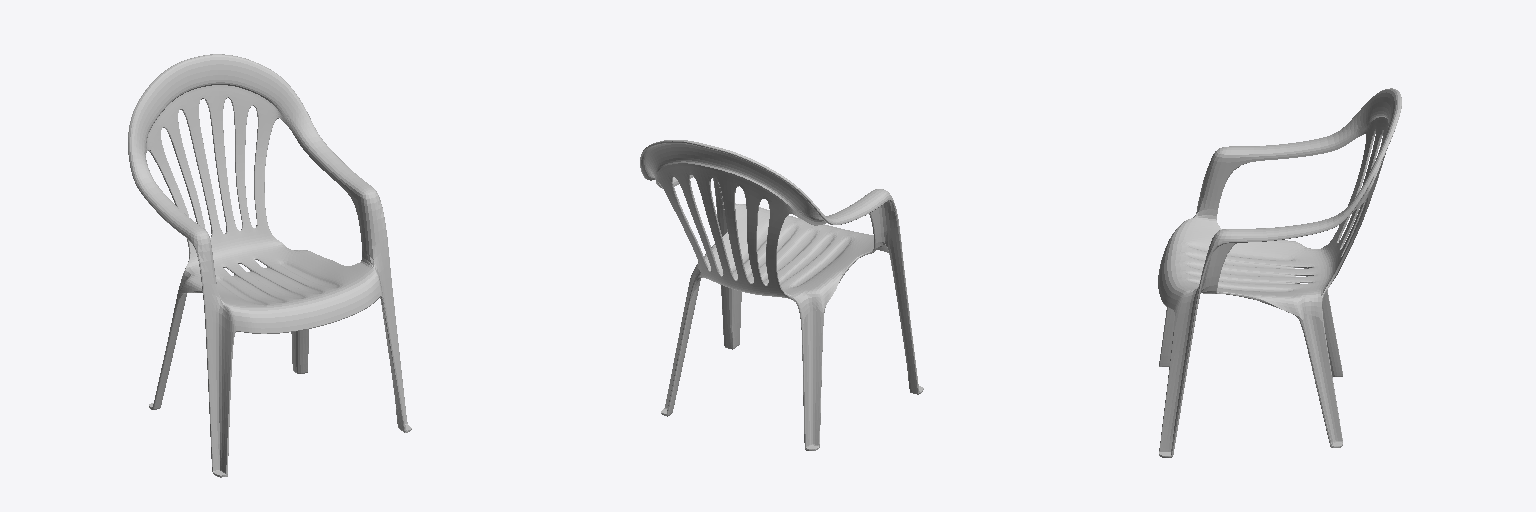
File: Monobloc_plastic_chair.obj
3 views of the same model, side by side, from view 1: azimuth 30°, elevation 25°; view 2: azimuth 150°, elevation 25°; view 3: azimuth 270°, elevation 25° (orthographic).
Visible parts, largest first — view 1: MonoblocChair_Chair; view 2: MonoblocChair_Chair; view 3: MonoblocChair_Chair.
Part boxes in pixels (x1,y1,x2,y2): MonoblocChair_Chair: (128,54,411,477); MonoblocChair_Chair: (640,140,923,450); MonoblocChair_Chair: (1158,88,1401,457).
Bounding box in the file's own units: 0.6008 × 0.9103 × 0.6511.